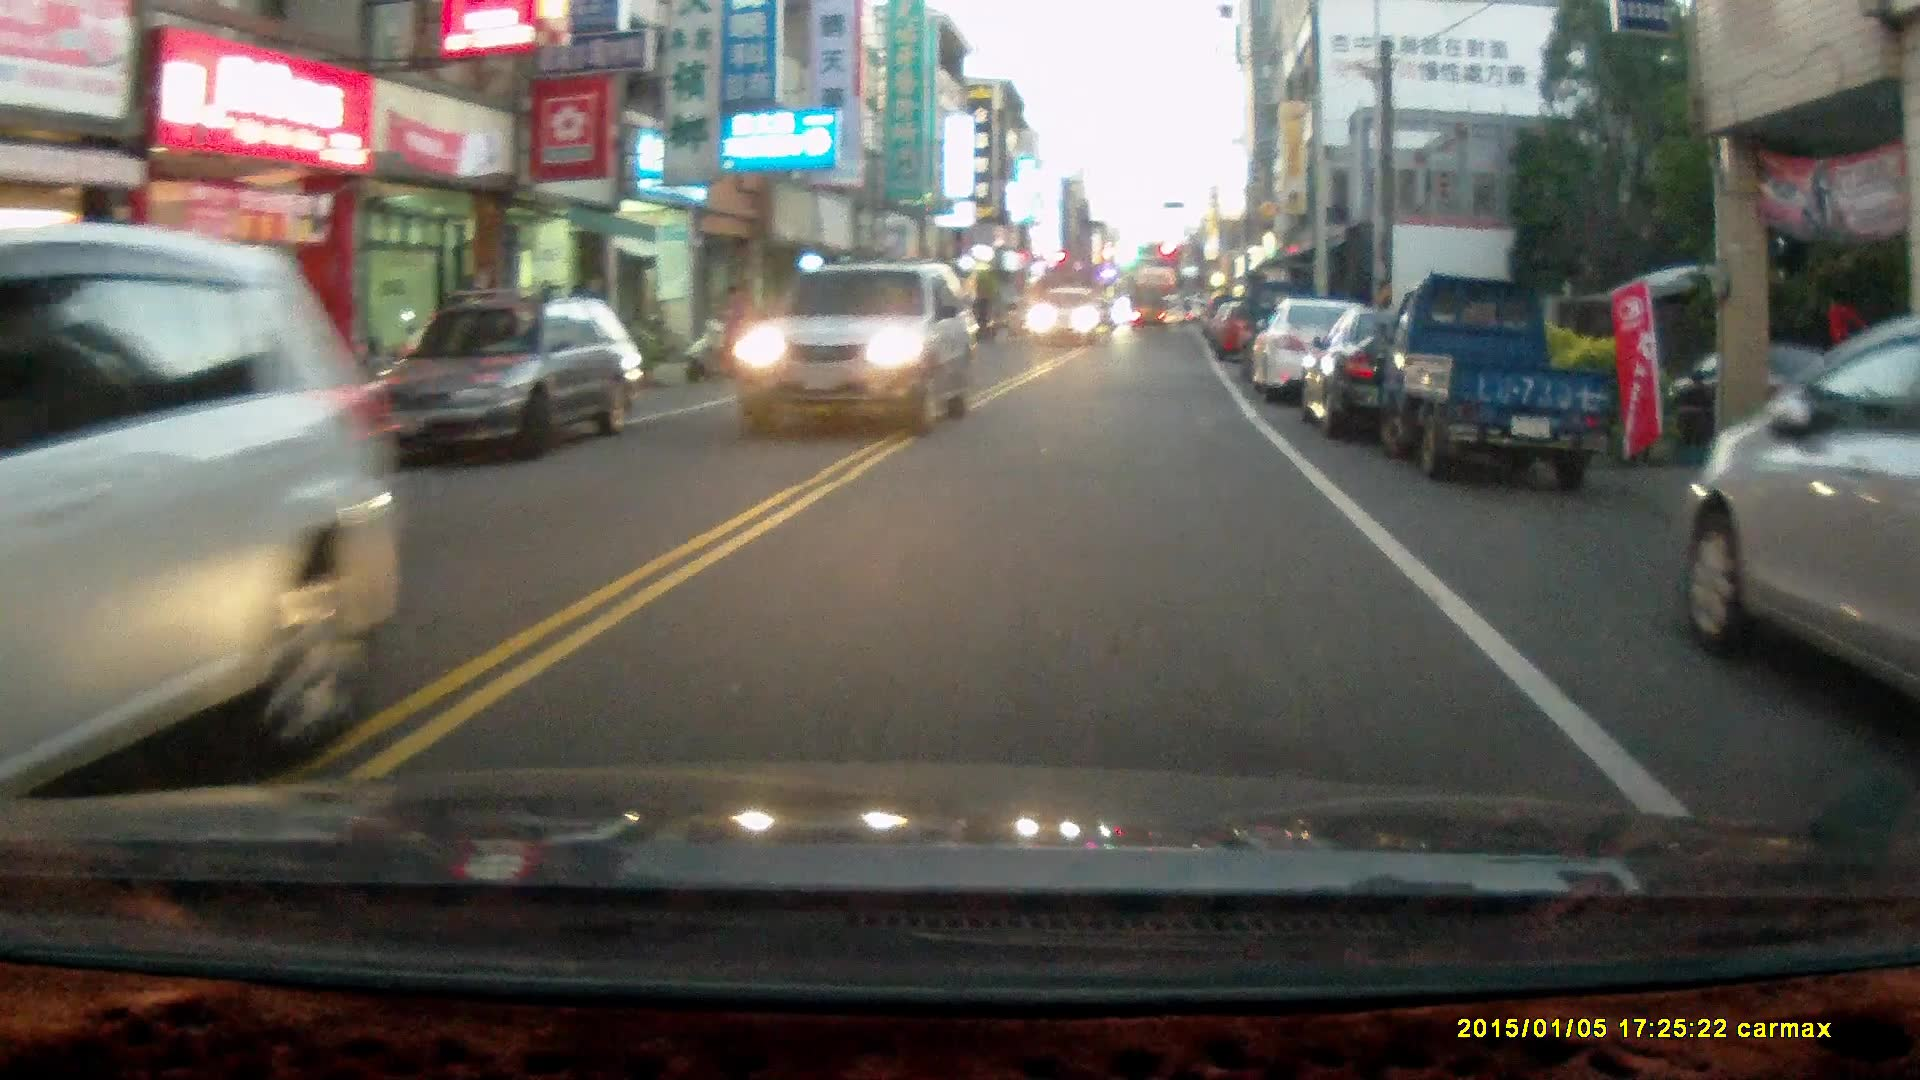pedestrian: (1817, 292, 1870, 464), (721, 280, 747, 371)
vehicle: (1, 222, 405, 792), (1684, 315, 1920, 712), (1373, 269, 1630, 493), (354, 293, 644, 467), (738, 261, 982, 436), (1306, 302, 1516, 439), (1249, 297, 1404, 406), (1025, 288, 1109, 347)
